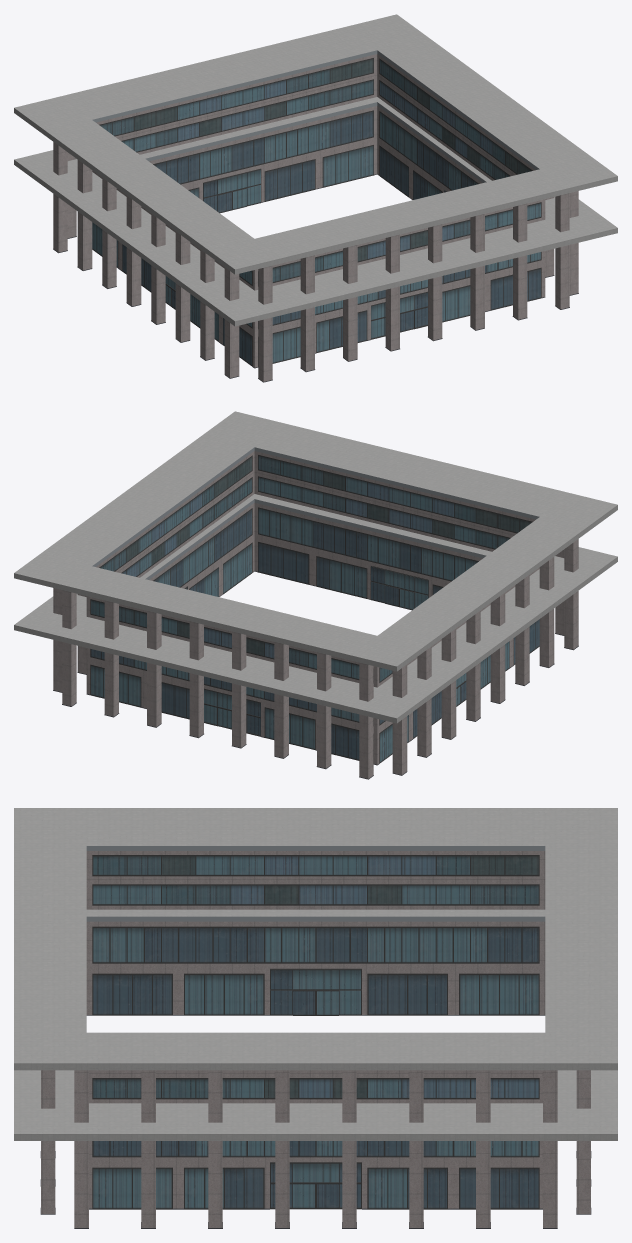
The model's file is jctBld50E_btm_low.fbx.
3 views of the same model, one above another, from view 1: azimuth 30°, elevation 25°; view 2: azimuth 150°, elevation 25°; view 3: azimuth 270°, elevation 25° (orthographic). The views are drawn at different scales.
Parts seen in each view (by area): view 1: jctBld50E_btm_low; view 2: jctBld50E_btm_low; view 3: jctBld50E_btm_low.
Boxes of the visible parts, x1,y1,x2,y2 form: jctBld50E_btm_low: [14, 14, 617, 382]; jctBld50E_btm_low: [14, 411, 617, 779]; jctBld50E_btm_low: [14, 808, 617, 1228].
Size of the model in its own units: 5413 by 1750 by 5413.
